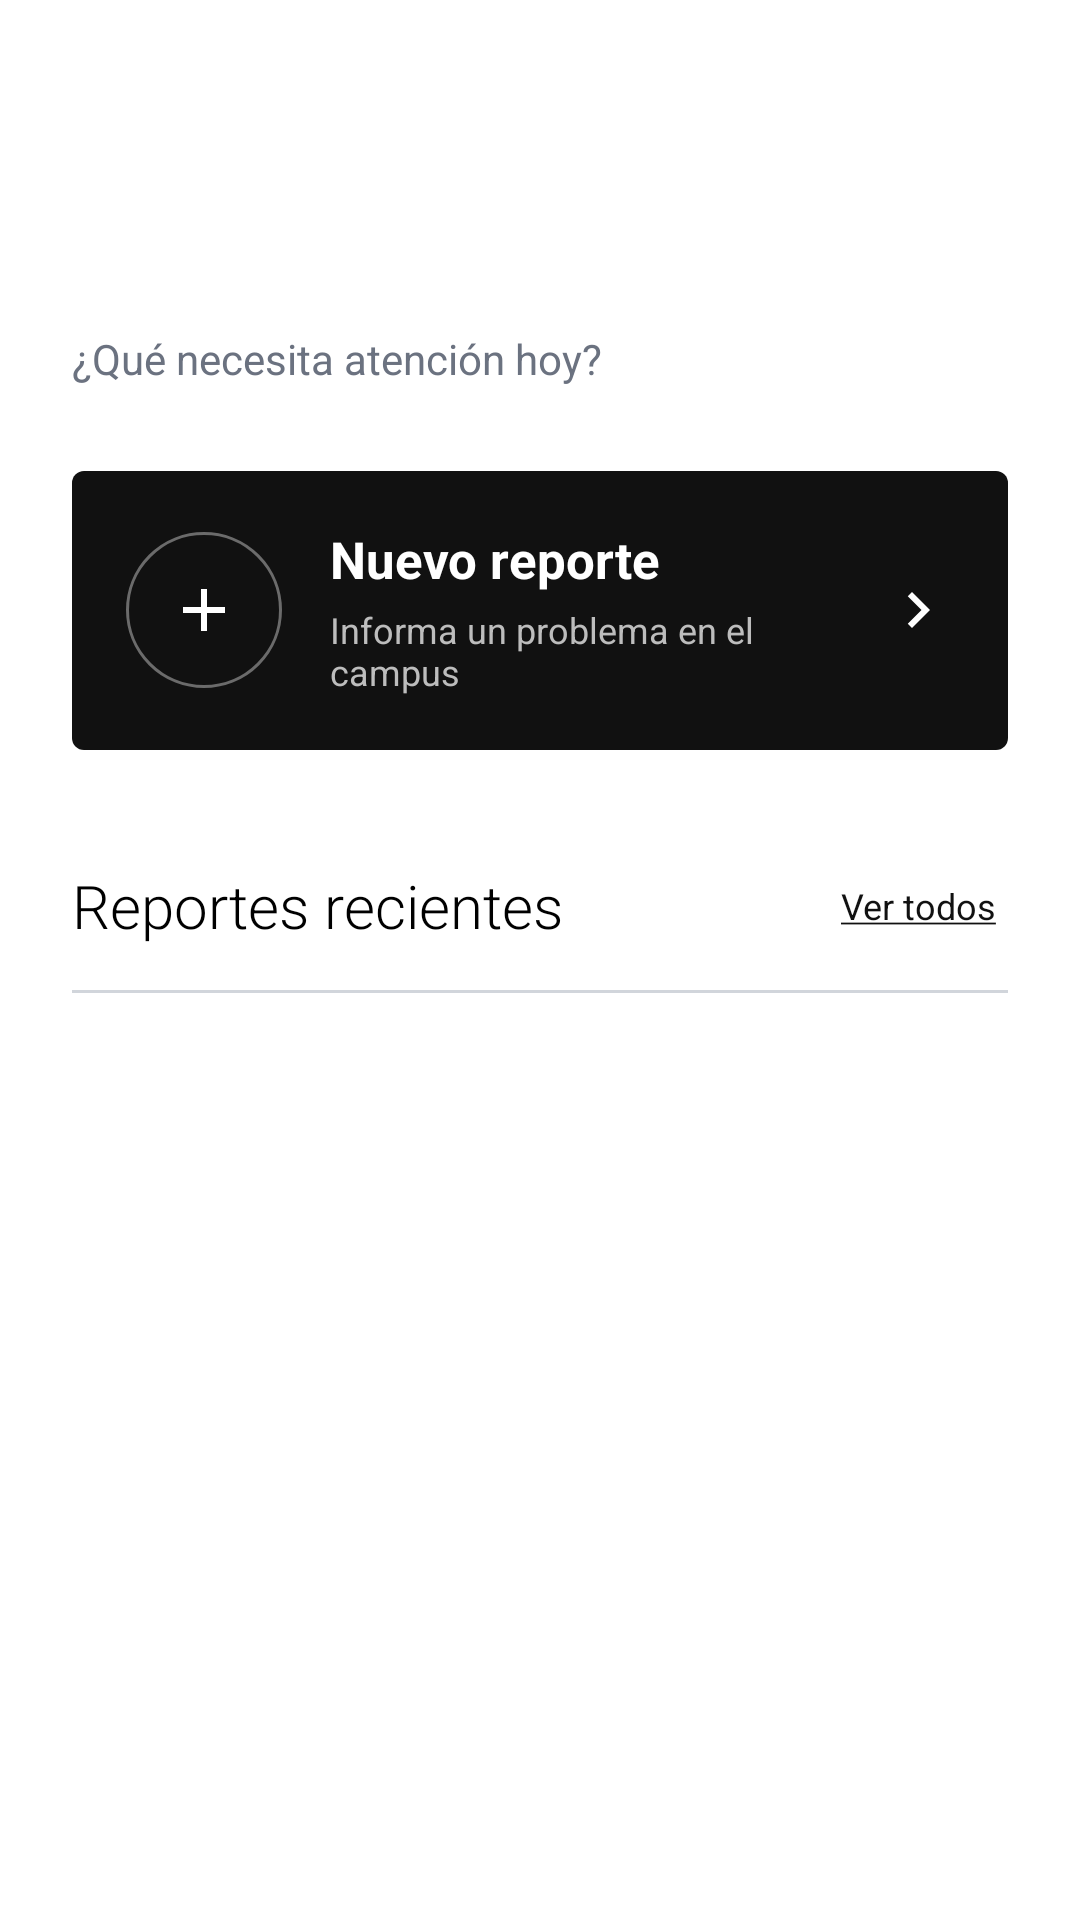

Where icons sit on this 1080×1920 app screen, as (x1, y1, x2, y2):
add: (126, 532, 282, 688)
chevron right: (908, 592, 930, 628)
